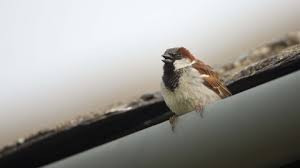hsparrow: (153, 45, 232, 131)
